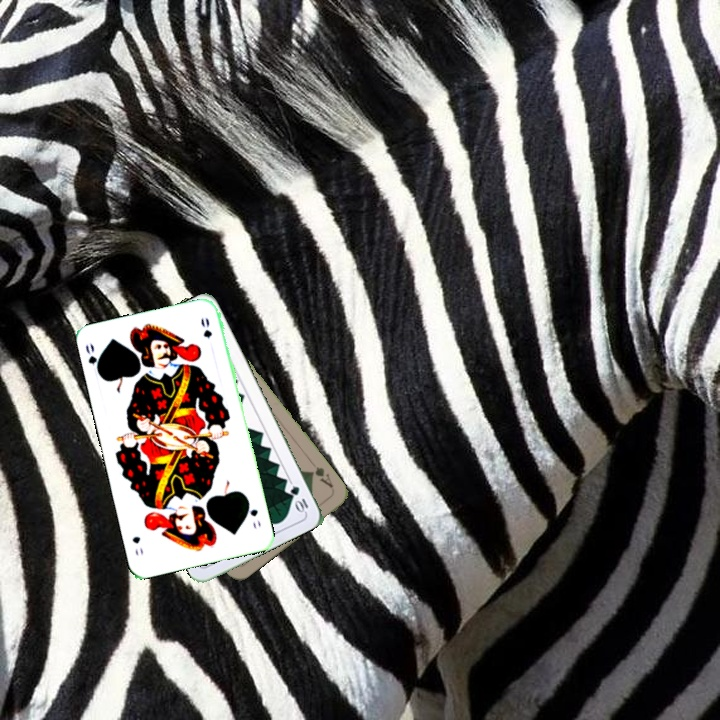G10: (286, 482, 311, 515)
GA: (306, 462, 336, 490)
GO: (81, 339, 103, 379), (243, 496, 263, 532)
